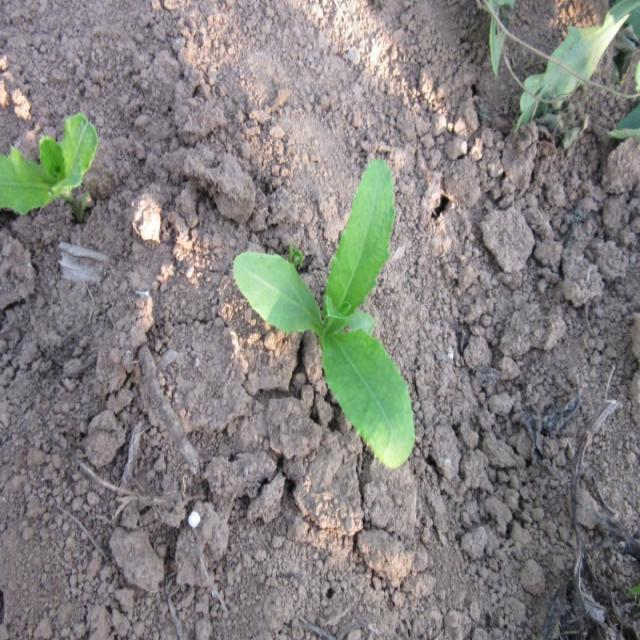cs: (230, 158, 416, 470)
